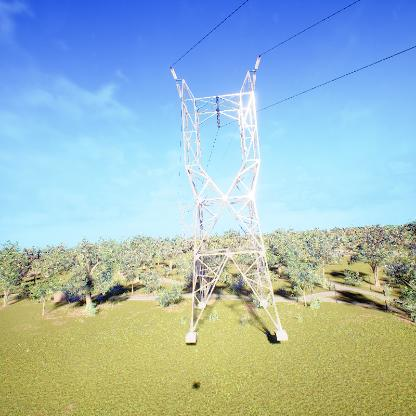tower: (167, 54, 291, 346)
